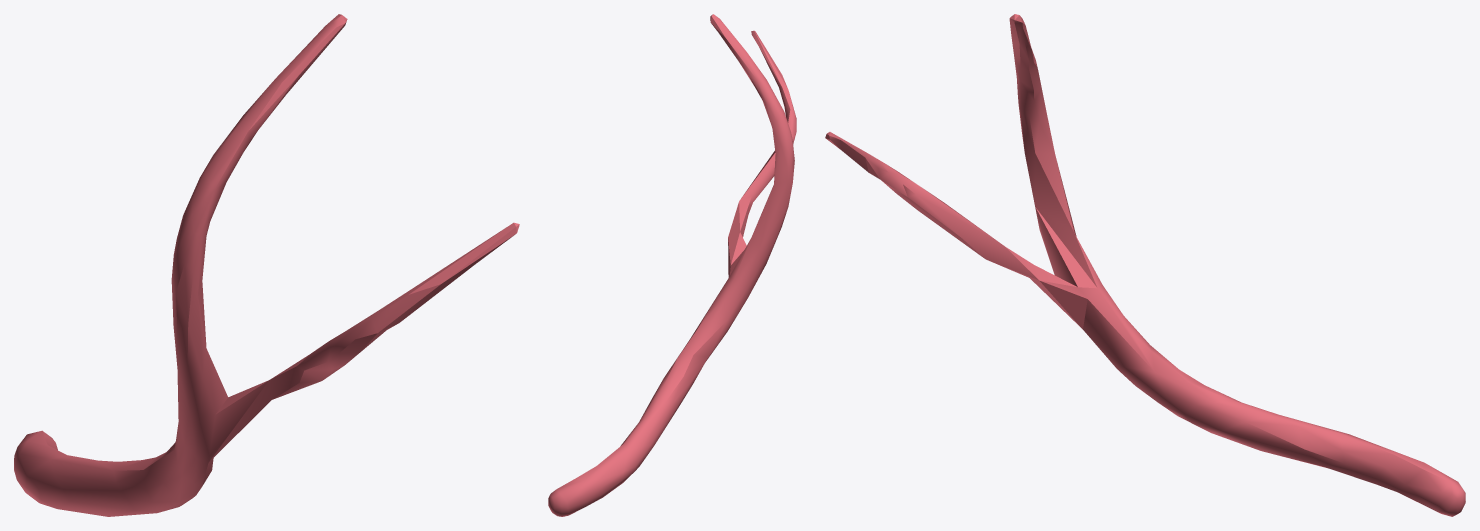
The model's file is fma50984_fj5195.glb.
The picture shows the model from 3 angles, left to right: view 1: azimuth 30°, elevation 25°; view 2: azimuth 150°, elevation 25°; view 3: azimuth 270°, elevation 25°; orthographic projection. The views are drawn at different scales.
Visible parts, largest first — view 1: FMA50984_FJ5195; view 2: FMA50984_FJ5195; view 3: FMA50984_FJ5195.
Part boxes in pixels (x1,y1,x2,y2): FMA50984_FJ5195: [14, 14, 519, 516]; FMA50984_FJ5195: [548, 14, 796, 516]; FMA50984_FJ5195: [825, 14, 1465, 516].
Size of the model in its own units: 0.00752 by 0.0231 by 0.0263.
